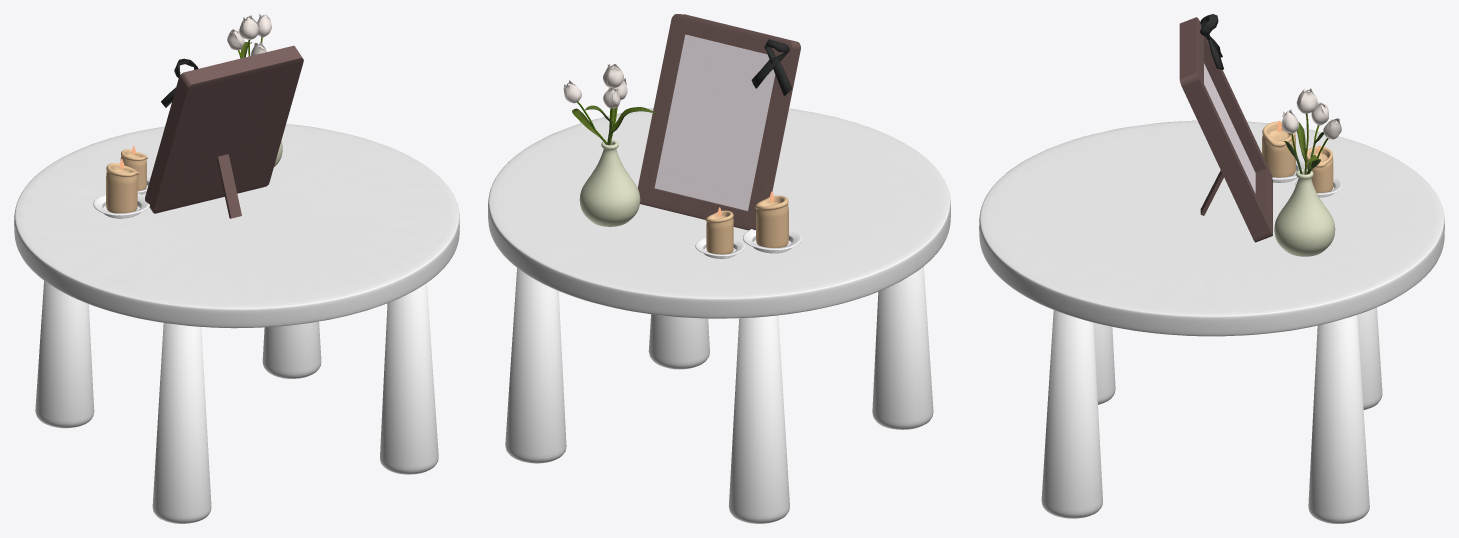
The model's file is Tribute.glb.
3 views of the same model, side by side, from view 1: azimuth 30°, elevation 25°; view 2: azimuth 150°, elevation 25°; view 3: azimuth 270°, elevation 25° (orthographic). The views are drawn at different scales.
Visible parts, largest first — view 1: Cube, Cube.003, SM_Jug of flowers A; view 2: Cube, SM_Jug of flowers A, Cube.003, ribbon; view 3: Cube, SM_Jug of flowers A, Cube.003, ribbon.
Part boxes in pixels (x1=…): Cube: x1=14, y1=45, x2=459, y2=523; Cube.003: x1=93, y1=145, x2=150, y2=218; SM_Jug of flowers A: x1=227, y1=14, x2=282, y2=166; Cube: x1=488, y1=14, x2=950, y2=523; SM_Jug of flowers A: x1=563, y1=64, x2=656, y2=226; Cube.003: x1=695, y1=191, x2=802, y2=258; ribbon: x1=751, y1=39, x2=791, y2=95; Cube: x1=979, y1=17, x2=1444, y2=523; SM_Jug of flowers A: x1=1274, y1=88, x2=1341, y2=256; Cube.003: x1=1262, y1=120, x2=1342, y2=197; ribbon: x1=1200, y1=14, x2=1223, y2=70.
Bounding box in the file's own units: 7.26 × 7.08 × 7.26.
Materials: 8 (8 with a texture image).
